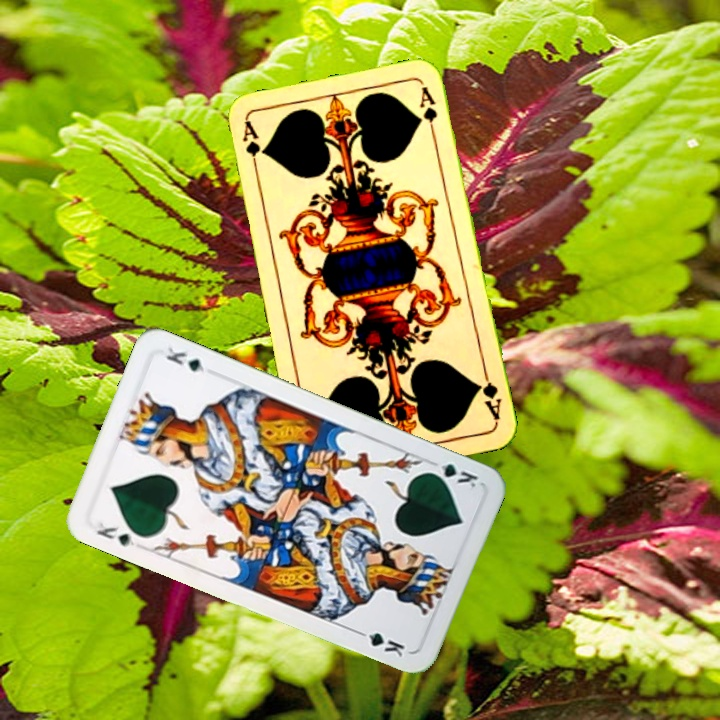GA: (473, 365, 504, 423), (238, 117, 263, 177)
GK: (423, 456, 481, 492), (93, 518, 137, 549)
